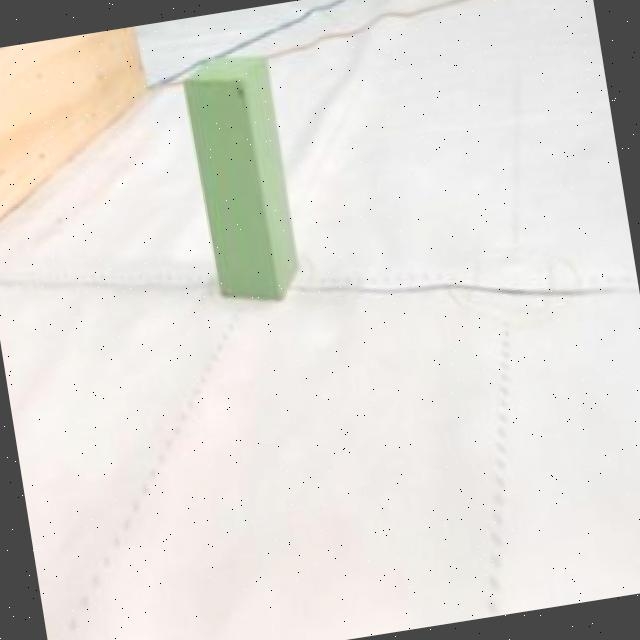greenbox: (176, 48, 308, 313)
